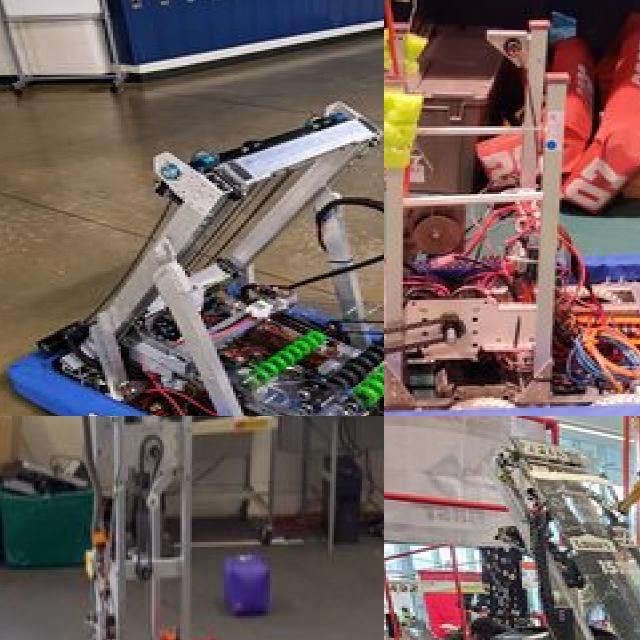FRC-Robots: (0, 0, 384, 416), (384, 0, 640, 416), (0, 416, 384, 640), (393, 432, 640, 640)
